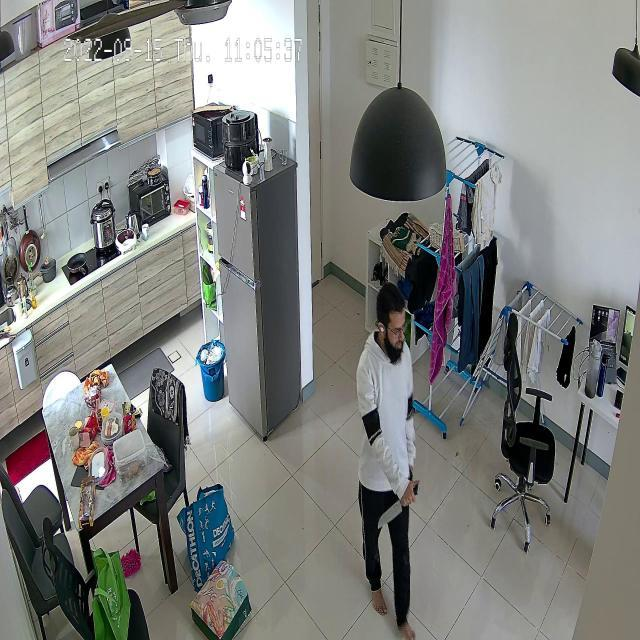Knife: (376, 482, 427, 533)
